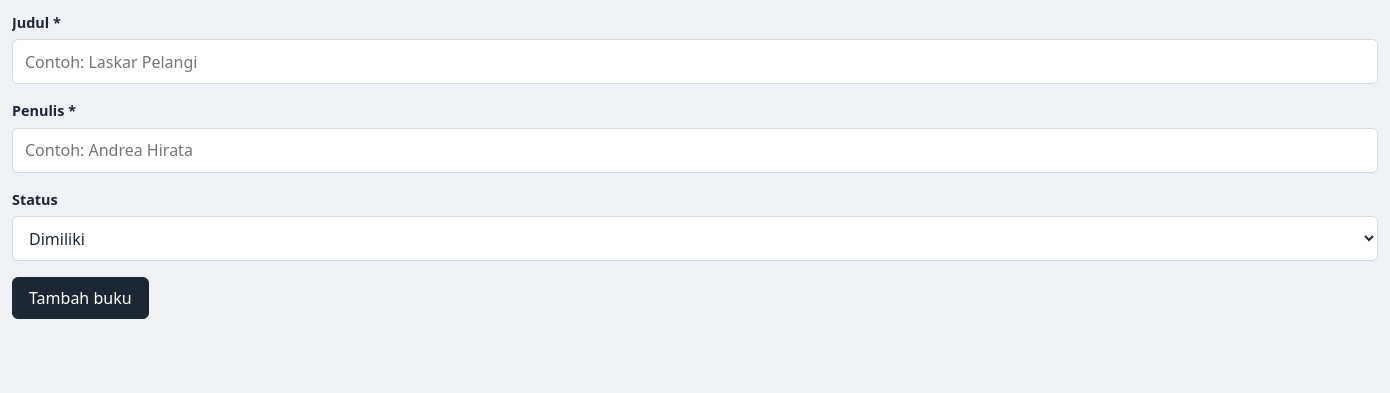
Scenario: BookForm › menampilkan pesan error dan tidak submit saat kolom wajib kosong
What coordinates should you click on to do the following:
click the button "Tambah buku"
I would click on:
 (80, 298)
Its box is 12,277 -> 149,319.
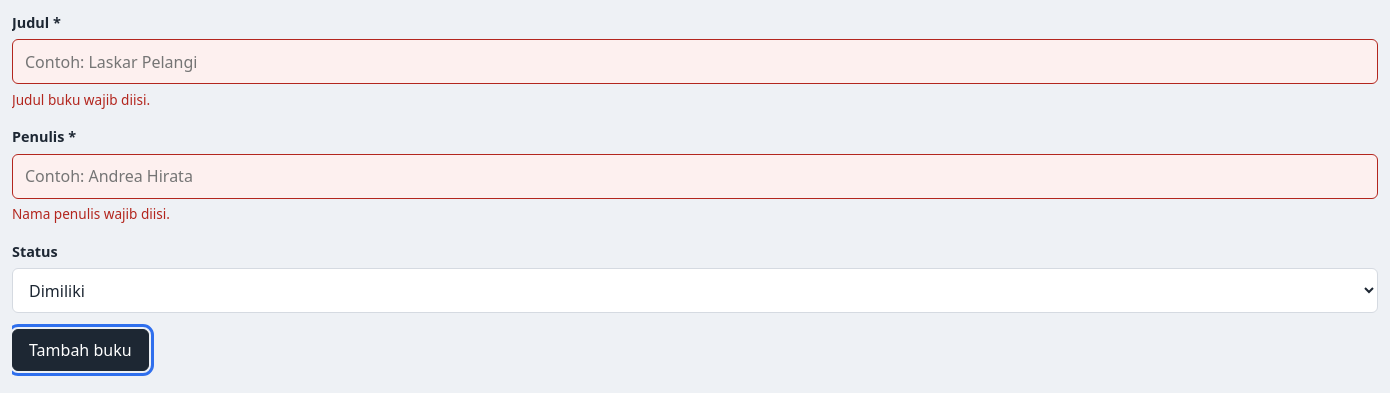
Expected: the text "Judul buku wajib diisi." is shown, 12,90 -> 150,109
Expected: the text "Nama penulis wajib diisi." is shown, 12,204 -> 170,223
